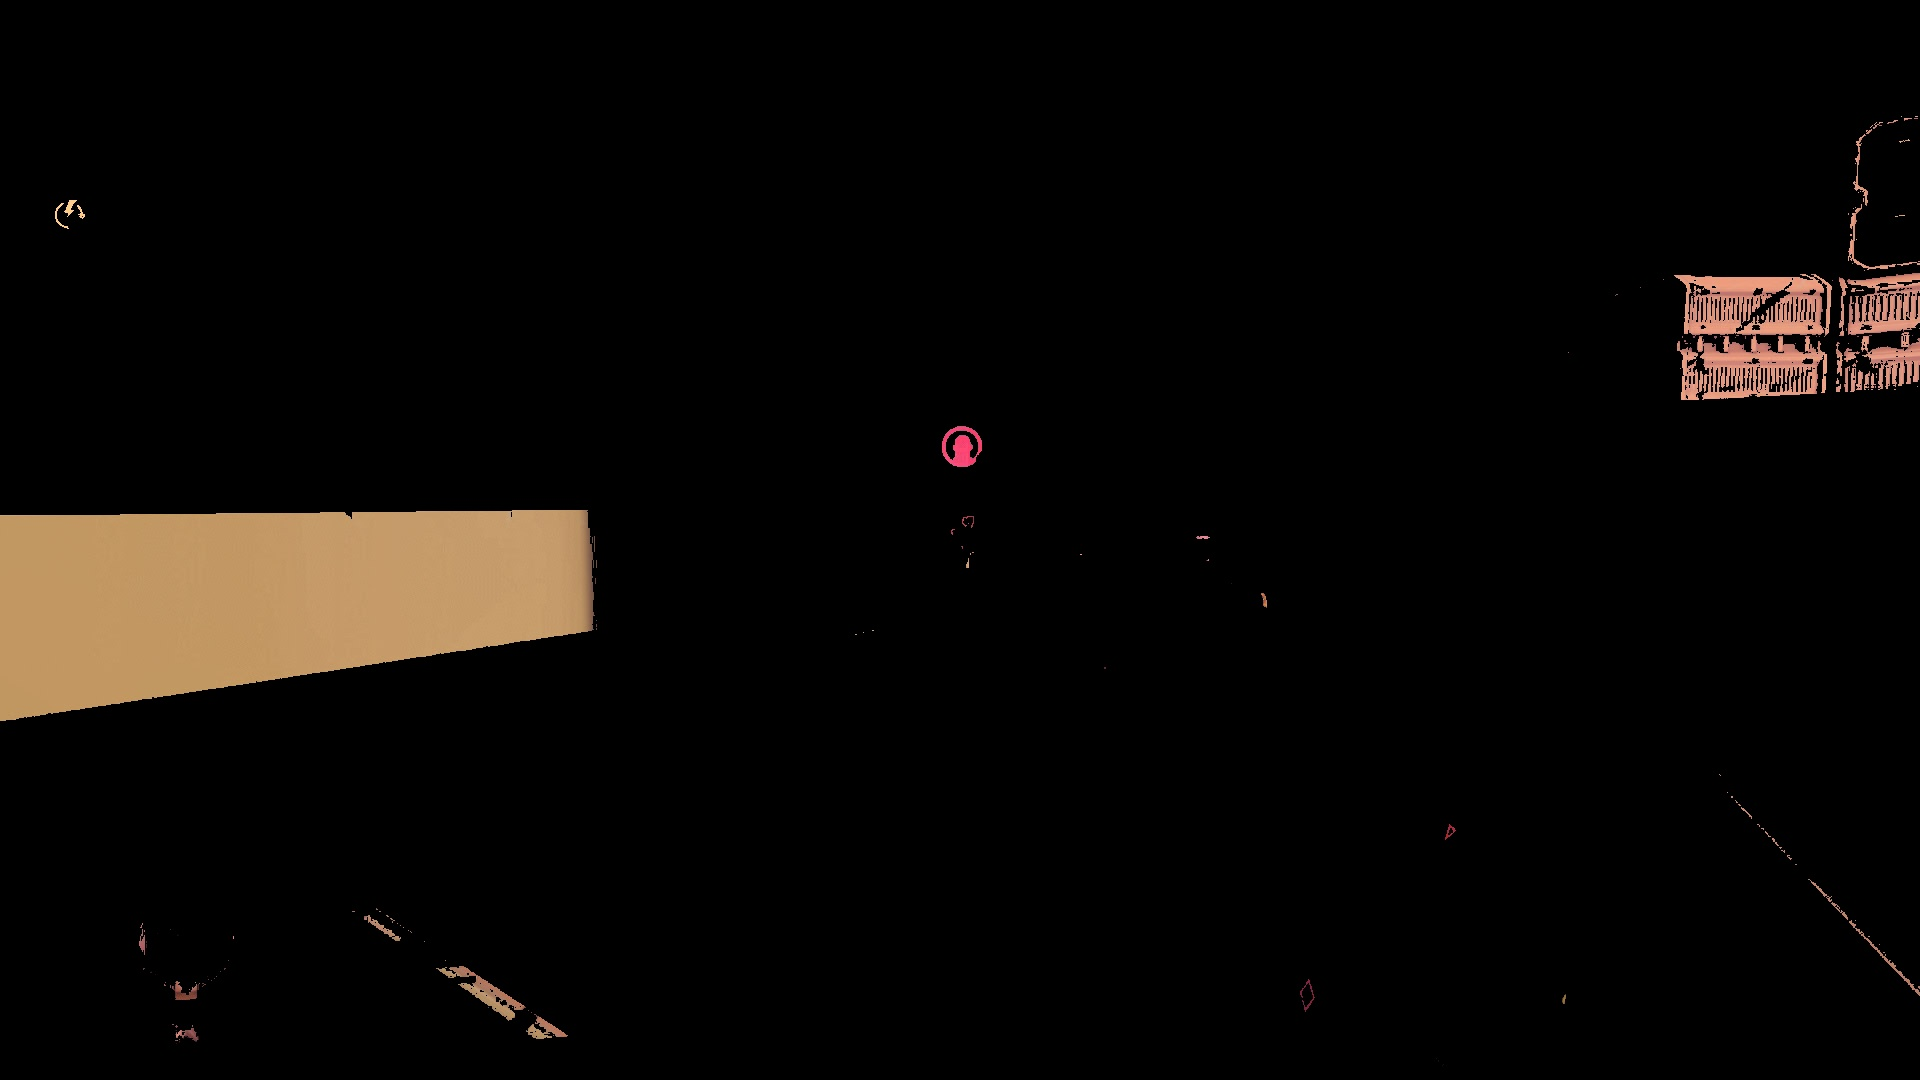widowmaker: (951, 516, 975, 537)
